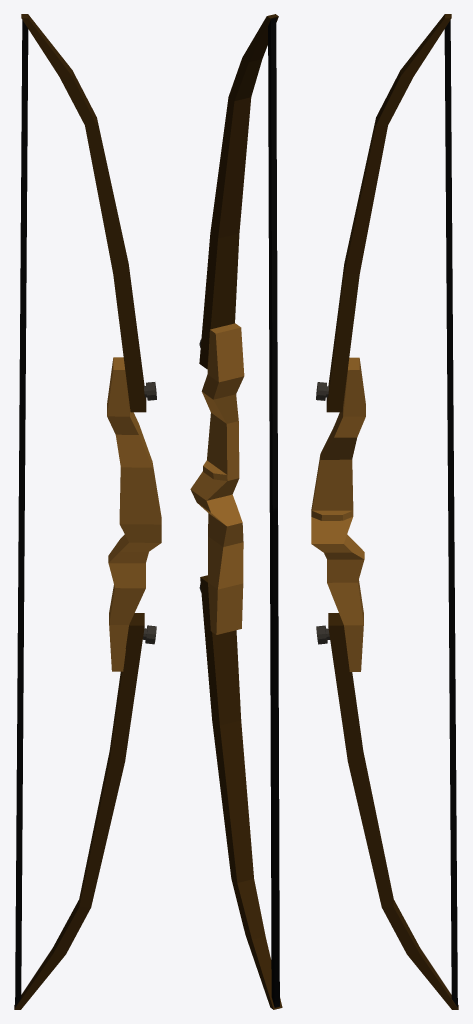
The model's file is LongBowLowPoly.fbx.
The picture shows the model from 3 angles, left to right: view 1: azimuth 90°, elevation 25°; view 2: azimuth 210°, elevation 25°; view 3: azimuth 270°, elevation 25°; orthographic projection.
Visible parts, largest first — view 1: Bow; view 2: Bow; view 3: Bow.
Part boxes in pixels (box(x1,y1,x2,y2)): Bow: box(14, 14, 161, 1009); Bow: box(190, 14, 282, 1009); Bow: box(311, 14, 458, 1009).
Bounding box in the file's own units: 11.37 × 359 × 48.5.
